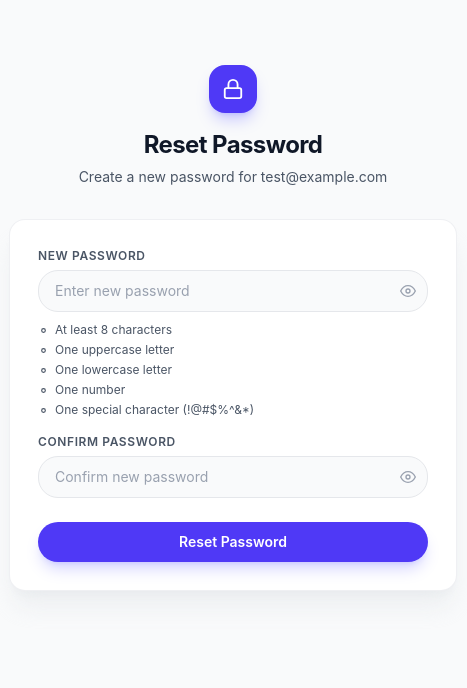
Test case: ResetPasswordPage › Form Submission › should show success message on successful reset
Type "StrongP@ss123" into the password field labelled "New Password". click: (233, 291)
box: [38, 270, 428, 312]
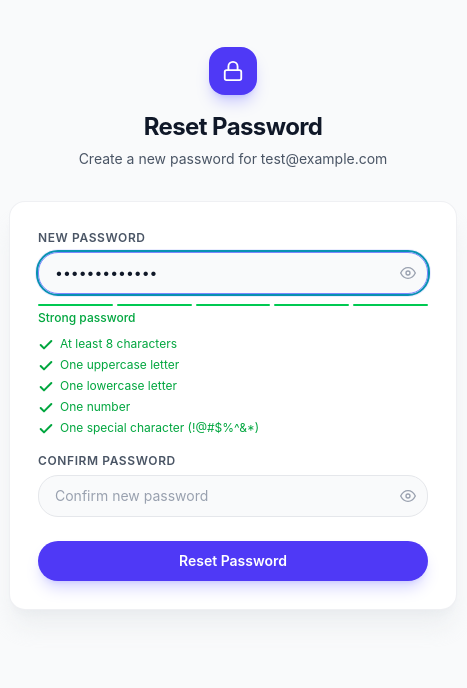
Type "StrongP@ss123" into the password field labelled "Confirm Password". click: (233, 496)
box: [38, 474, 428, 516]
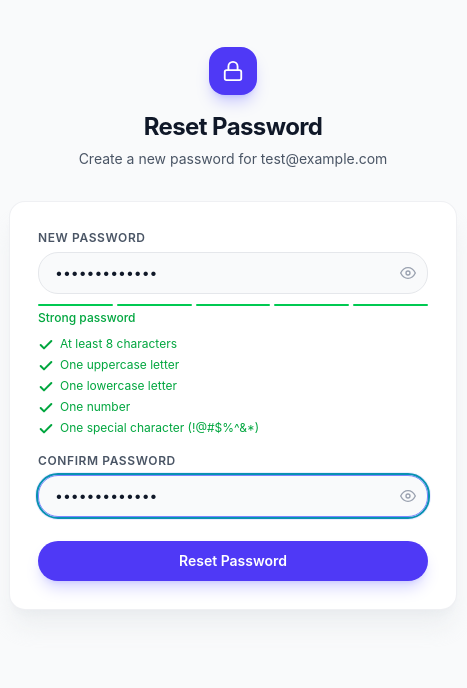
Click the button "Reset Password". click: (233, 560)
box: [38, 540, 428, 580]
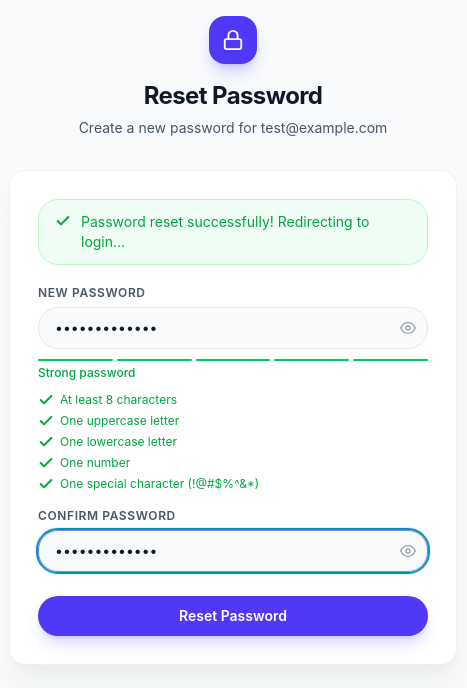
expect the text "Password reset successfully! Redirecting to login..." is shown: met, box [81, 212, 411, 252]
